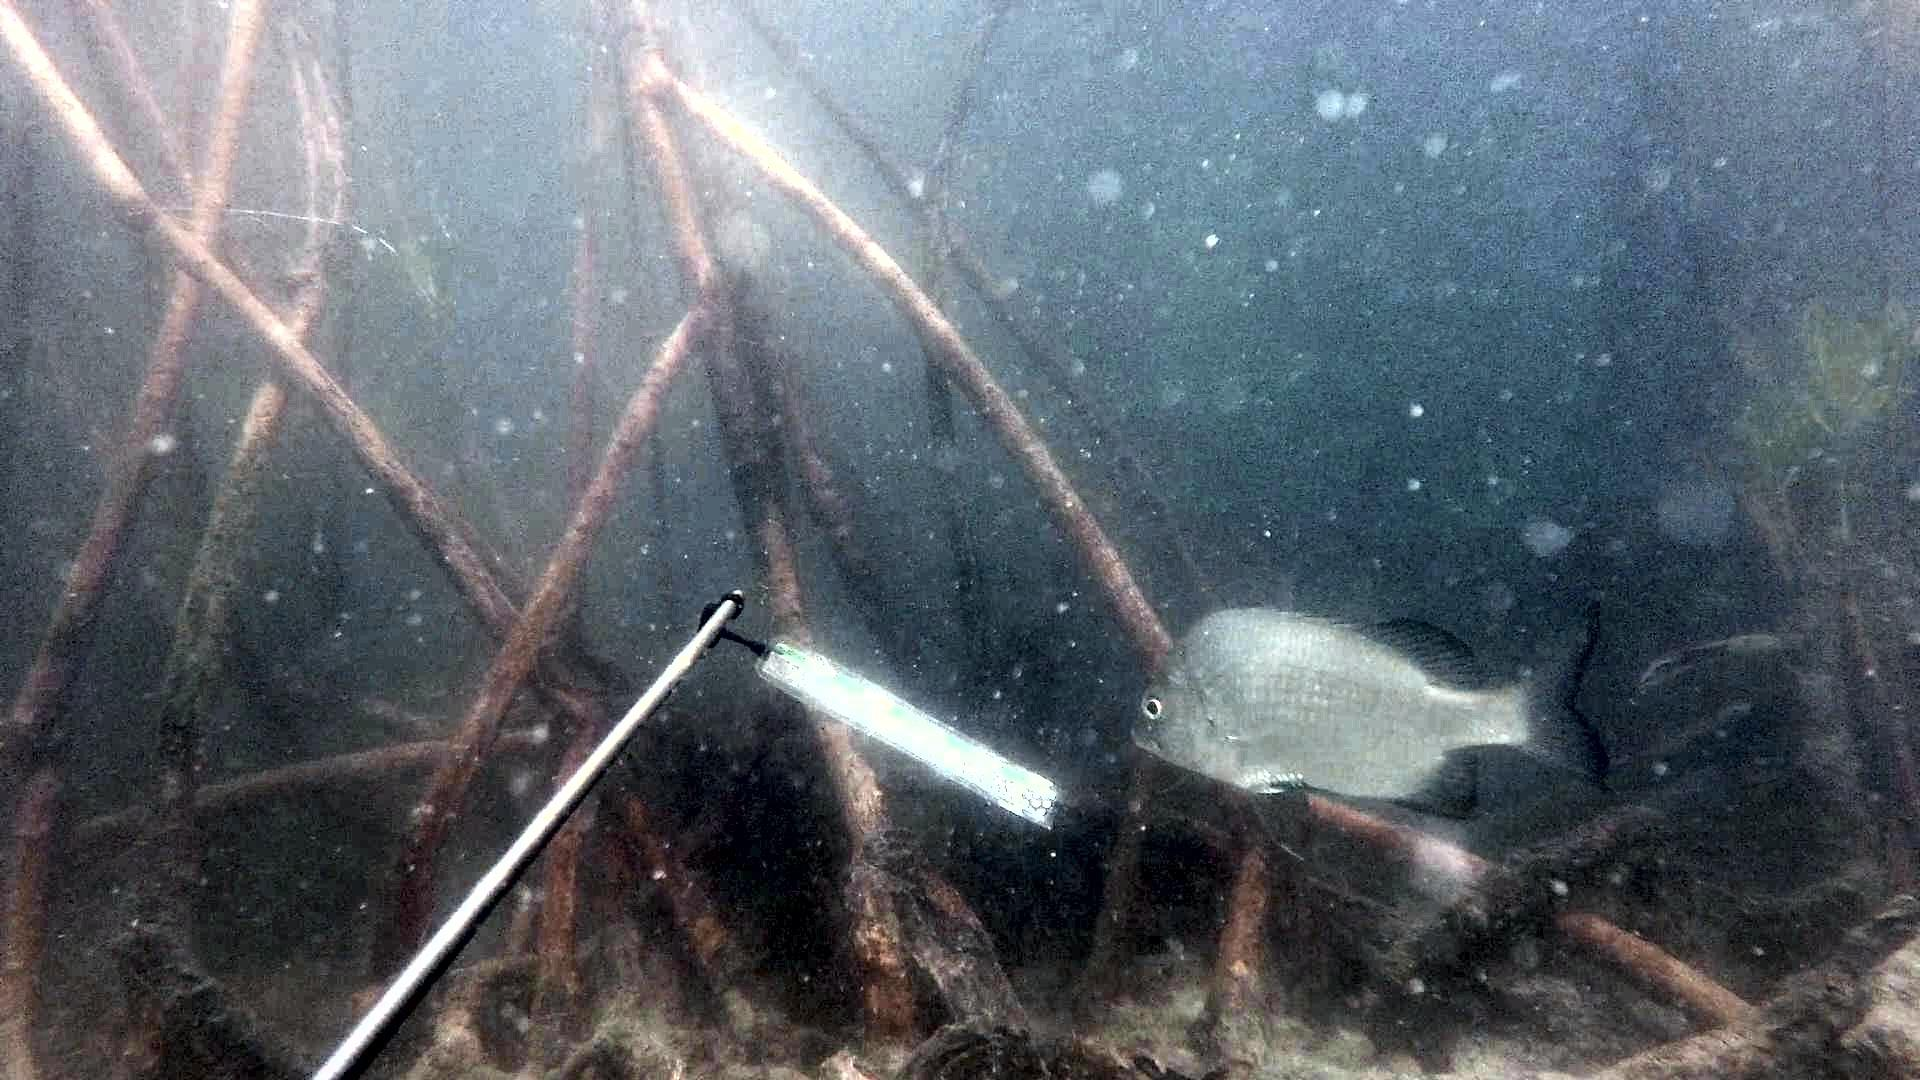acanthopagrus palmaris: (1117, 583, 1618, 872)
